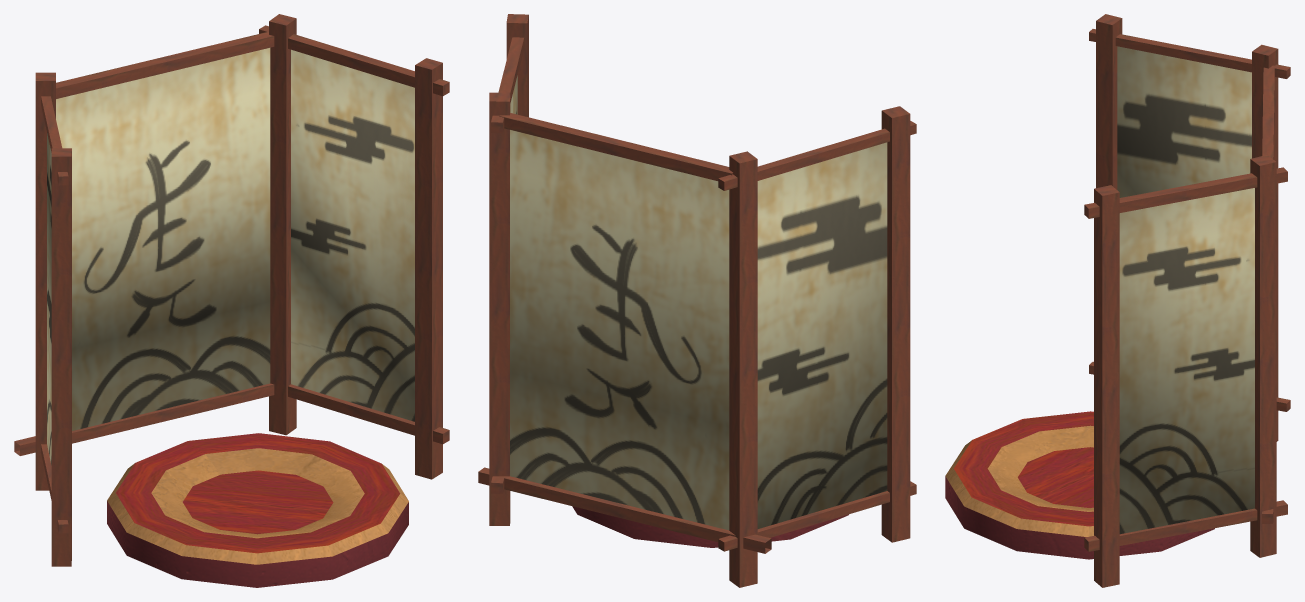
File: Portal.glb
3 renders of one model, left to right at view 1: azimuth 30°, elevation 25°; view 2: azimuth 150°, elevation 25°; view 3: azimuth 270°, elevation 25°, orthographic. The views are drawn at different scales.
Parts seen in each view (by area): view 1: Portal; view 2: Portal; view 3: Portal.
Part boxes in pixels (bbox=[...]): Portal: bbox=[14, 14, 449, 587]; Portal: bbox=[478, 14, 916, 587]; Portal: bbox=[945, 14, 1290, 587].
Bounding box in the file's own units: 3.3 × 3.31 × 2.64.
4 materials, 4 textured.
